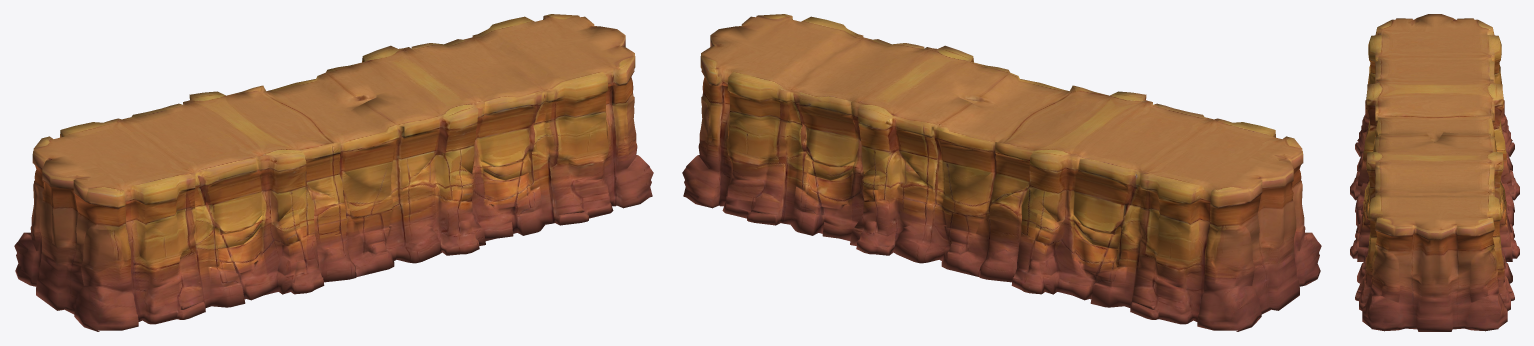
The model's file is Mountain.fbx.
3 views of the same model, side by side, from view 1: azimuth 30°, elevation 25°; view 2: azimuth 150°, elevation 25°; view 3: azimuth 270°, elevation 25° (orthographic). The views are drawn at different scales.
Parts seen in each view (by area): view 1: tripo_node_bbd45e70; view 2: tripo_node_bbd45e70; view 3: tripo_node_bbd45e70.
Boxes of the visible parts, <box> form: tripo_node_bbd45e70: <box>14,14,653,331</box>; tripo_node_bbd45e70: <box>682,14,1321,331</box>; tripo_node_bbd45e70: <box>1350,14,1519,331</box>.
Size of the model in its own units: 1 by 0.2192 by 0.3307.
